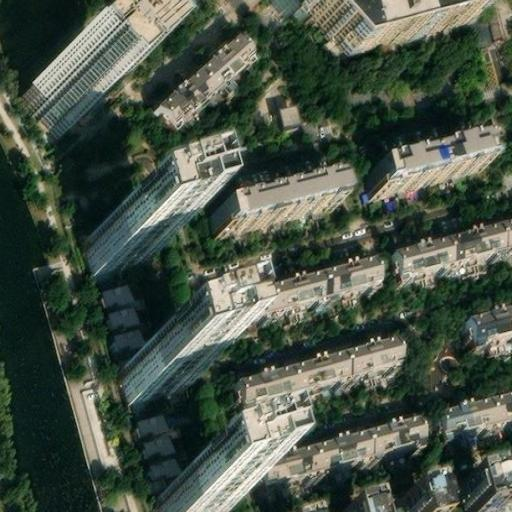building: (93, 276, 187, 484), (229, 331, 400, 404), (257, 410, 421, 484), (232, 253, 374, 320), (160, 22, 261, 116), (299, 0, 464, 51), (21, 42, 110, 130), (393, 213, 512, 278), (209, 170, 331, 226), (366, 133, 478, 186), (117, 336, 190, 391), (435, 386, 512, 436), (84, 208, 155, 261), (151, 464, 226, 512), (461, 301, 512, 343), (464, 465, 501, 510), (403, 481, 440, 512), (277, 96, 301, 119), (370, 498, 407, 512), (344, 499, 376, 512), (497, 470, 512, 497)
